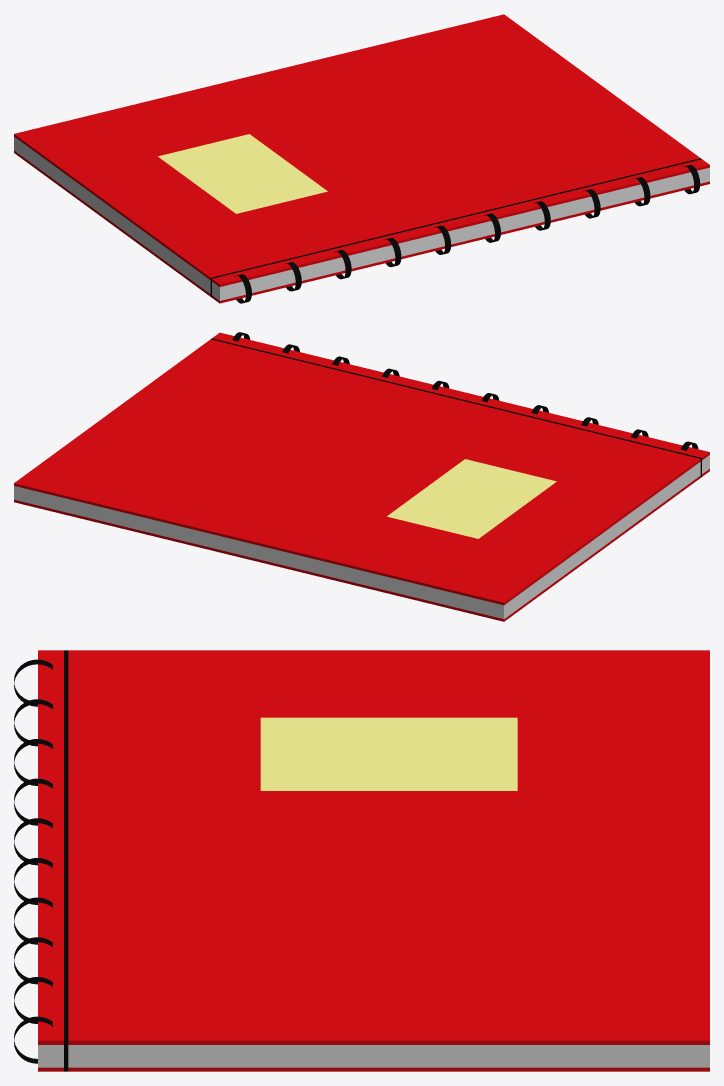
The model's file is zeszyt.fbx.
The picture shows the model from 3 angles, top to bottom: view 1: azimuth 30°, elevation 25°; view 2: azimuth 150°, elevation 25°; view 3: azimuth 270°, elevation 25°; orthographic projection. The views are drawn at different scales.
Parts seen in each view (by area): view 1: Cube; view 2: Cube; view 3: Cube.
Boxes of the visible parts, box(x1,y1,x2,y2) form: Cube: box(14, 14, 709, 303); Cube: box(14, 332, 709, 621); Cube: box(14, 650, 709, 1071).
Size of the model in its own units: 200 by 10.11 by 151.
